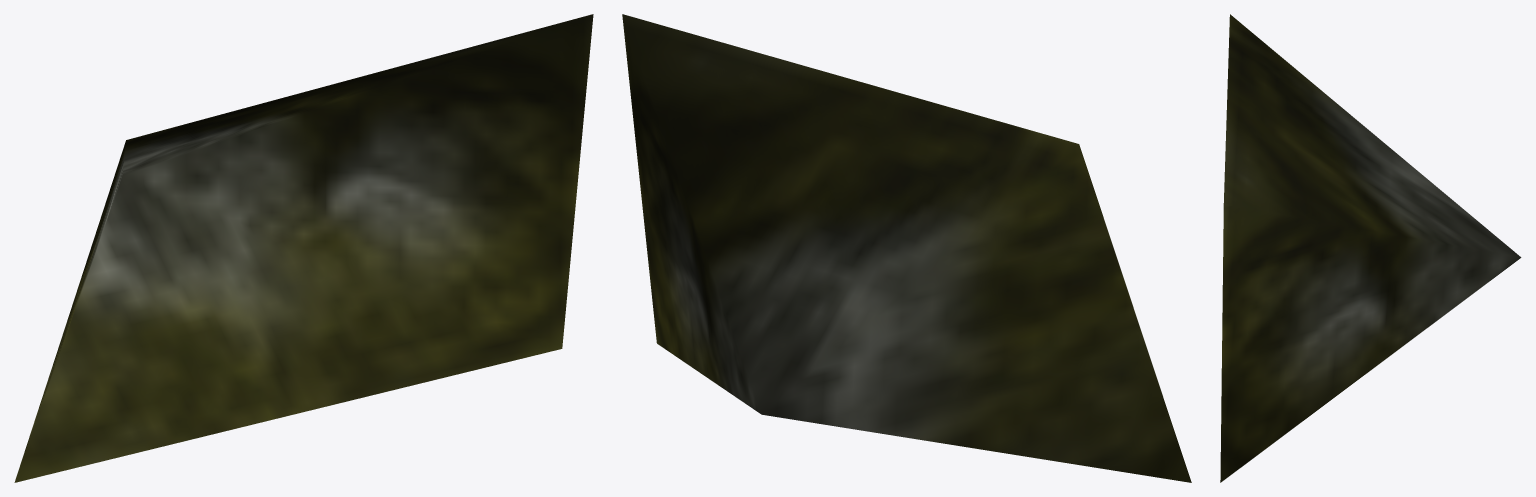
The model's file is MEP_GroundRocks_01_b.fbx.
The picture shows the model from 3 angles, left to right: view 1: azimuth 30°, elevation 25°; view 2: azimuth 150°, elevation 25°; view 3: azimuth 270°, elevation 25°; orthographic projection. The views are drawn at different scales.
Visible parts, largest first — view 1: MEP_GroundRock_01_b; view 2: MEP_GroundRock_01_b; view 3: MEP_GroundRock_01_b.
Part boxes in pixels (bbox=[...]): MEP_GroundRock_01_b: bbox=[14, 14, 593, 482]; MEP_GroundRock_01_b: bbox=[622, 14, 1191, 482]; MEP_GroundRock_01_b: bbox=[1220, 14, 1521, 482].
Bounding box in the file's own units: 0.5899 × 0.3228 × 0.2959.
